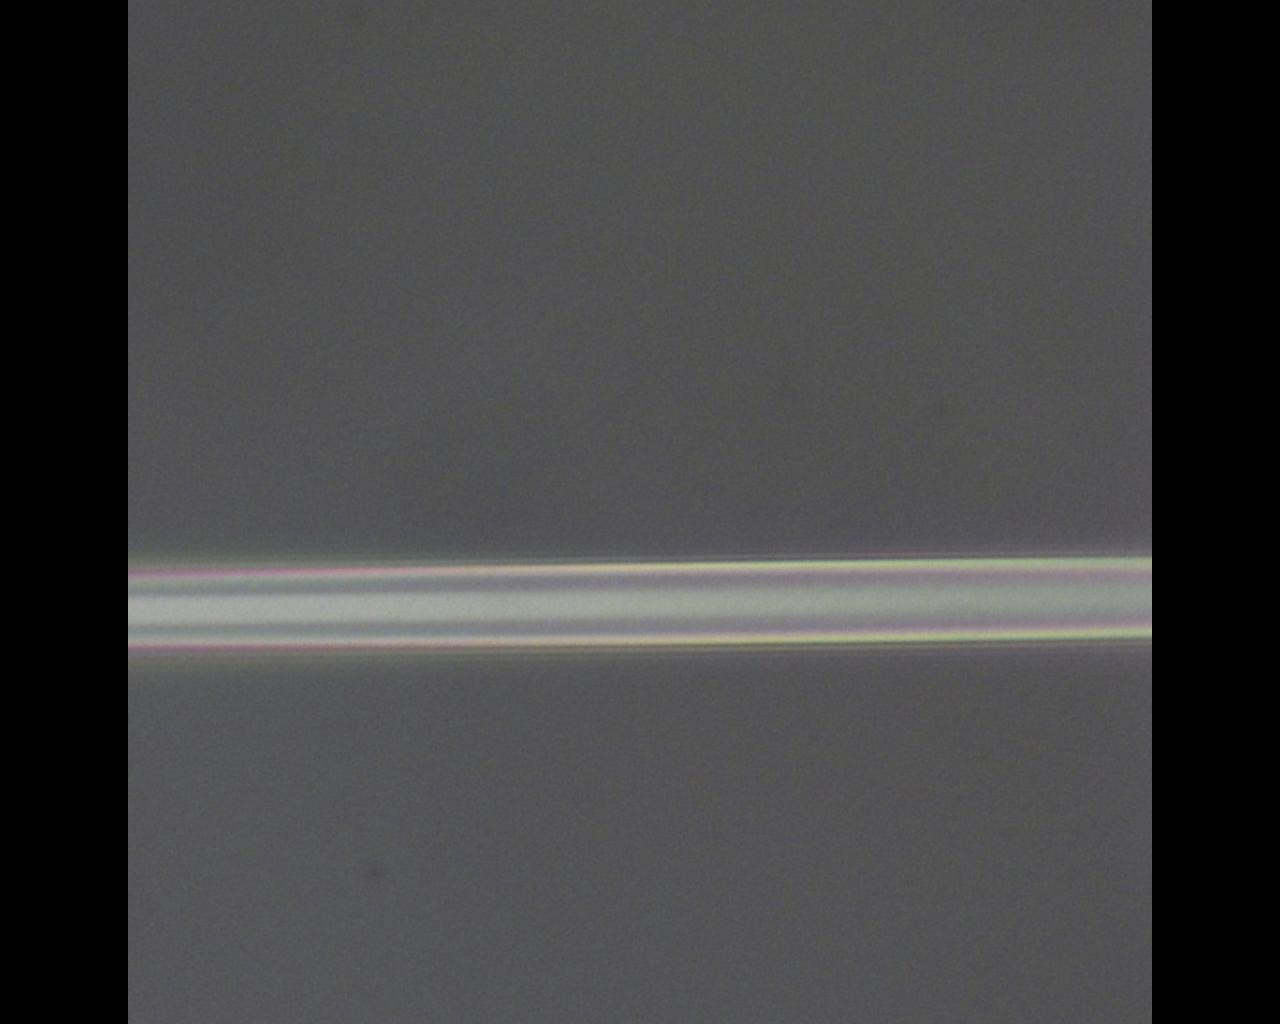fiber: (576, 389, 1198, 911), (630, 56, 1280, 166)
